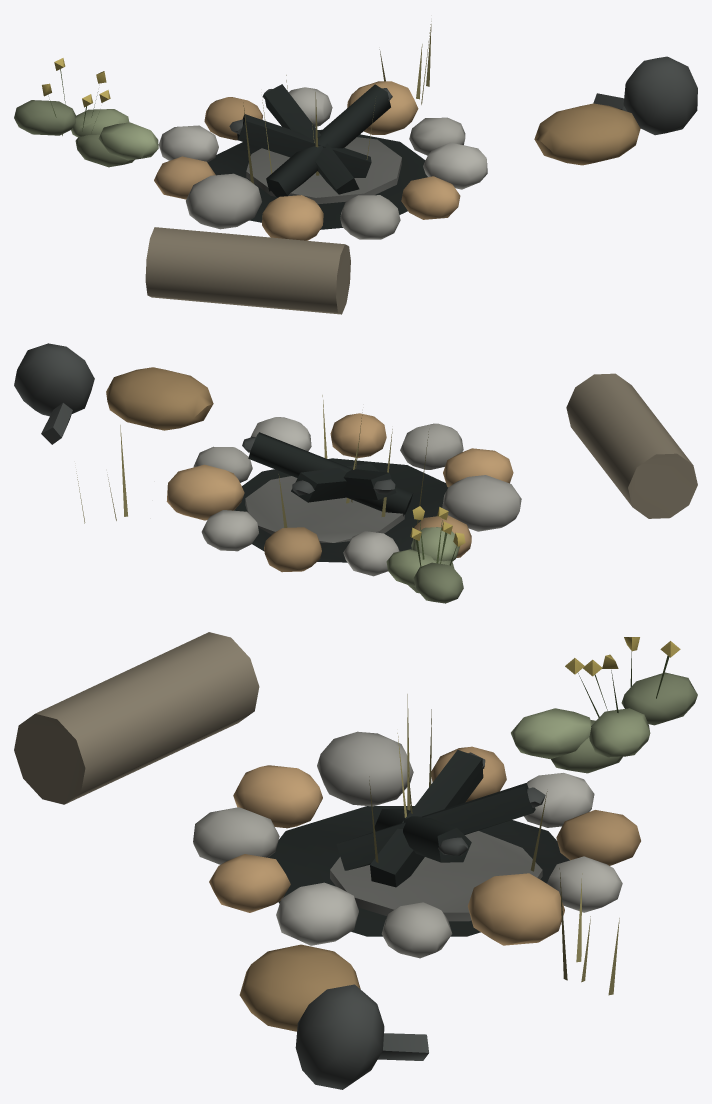
Rendered from cold_campfire_c_lod1.glb.
3 views of the same model, one above another, from view 1: azimuth 30°, elevation 25°; view 2: azimuth 150°, elevation 25°; view 3: azimuth 270°, elevation 25° (orthographic). The views are drawn at different scales.
Visible parts, largest first — view 1: Surface.001; view 2: Surface.001; view 3: Surface.001.
Boxes of the visible parts, x1,y1,x2,y2 form: Surface.001: (14,21,697,314); Surface.001: (14,343,697,603); Surface.001: (14,632,697,1089).
Bounding box in the file's own units: 7.26 × 1.23 × 5.31.
